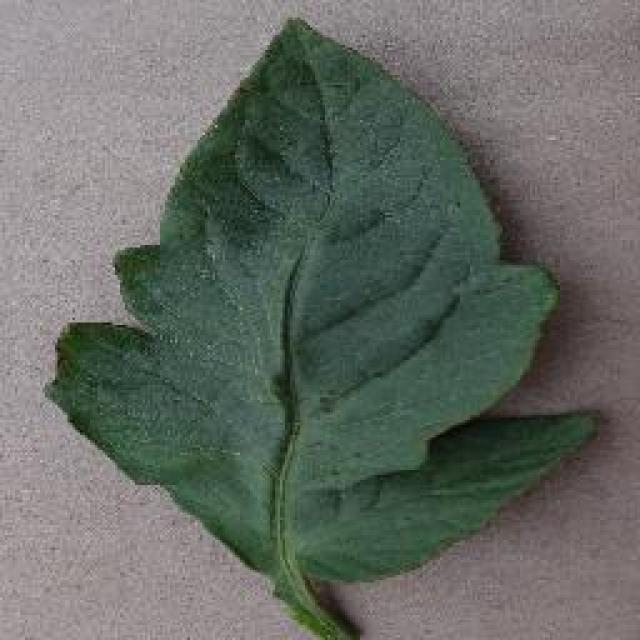bacterial spot: (40, 16, 603, 640)
